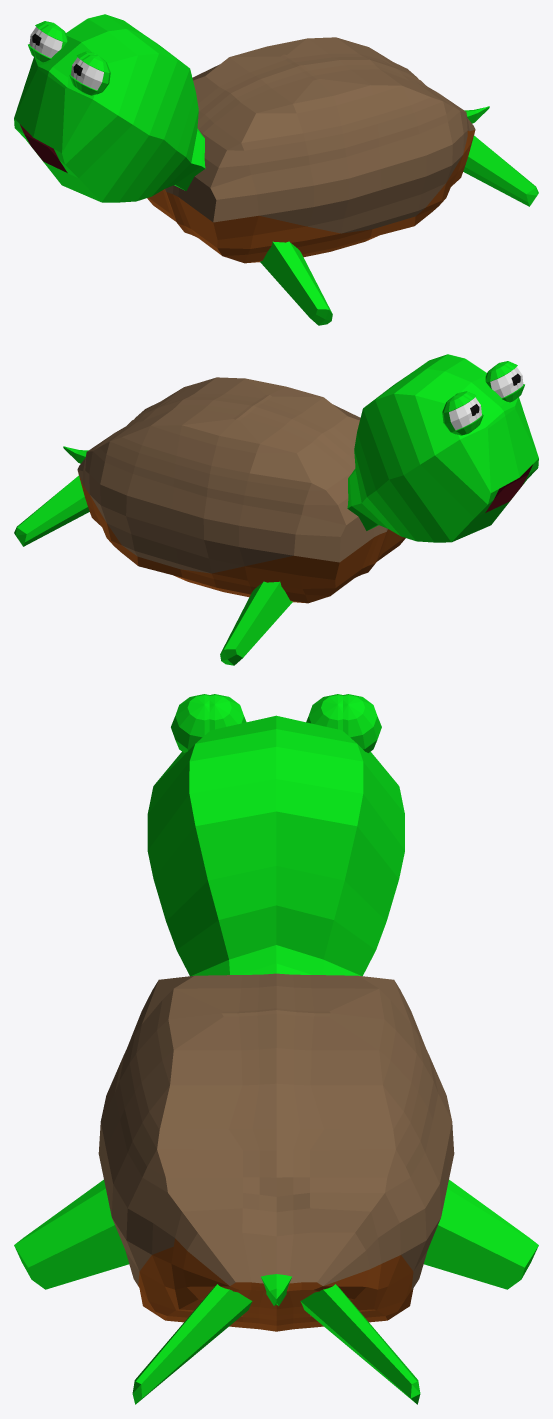
Rendered from tortuga.fbx.
3 renders of one model, top to bottom at view 1: azimuth 30°, elevation 25°; view 2: azimuth 150°, elevation 25°; view 3: azimuth 270°, elevation 25°, orthographic. The views are drawn at different scales.
Visible parts, largest first — view 1: Turtle; view 2: Turtle; view 3: Turtle.
Part boxes in pixels (bbox=[...]): Turtle: bbox=[14, 14, 538, 325]; Turtle: bbox=[14, 354, 538, 665]; Turtle: bbox=[14, 694, 538, 1404].
Bounding box in the file's own units: 264 × 151 × 161.
